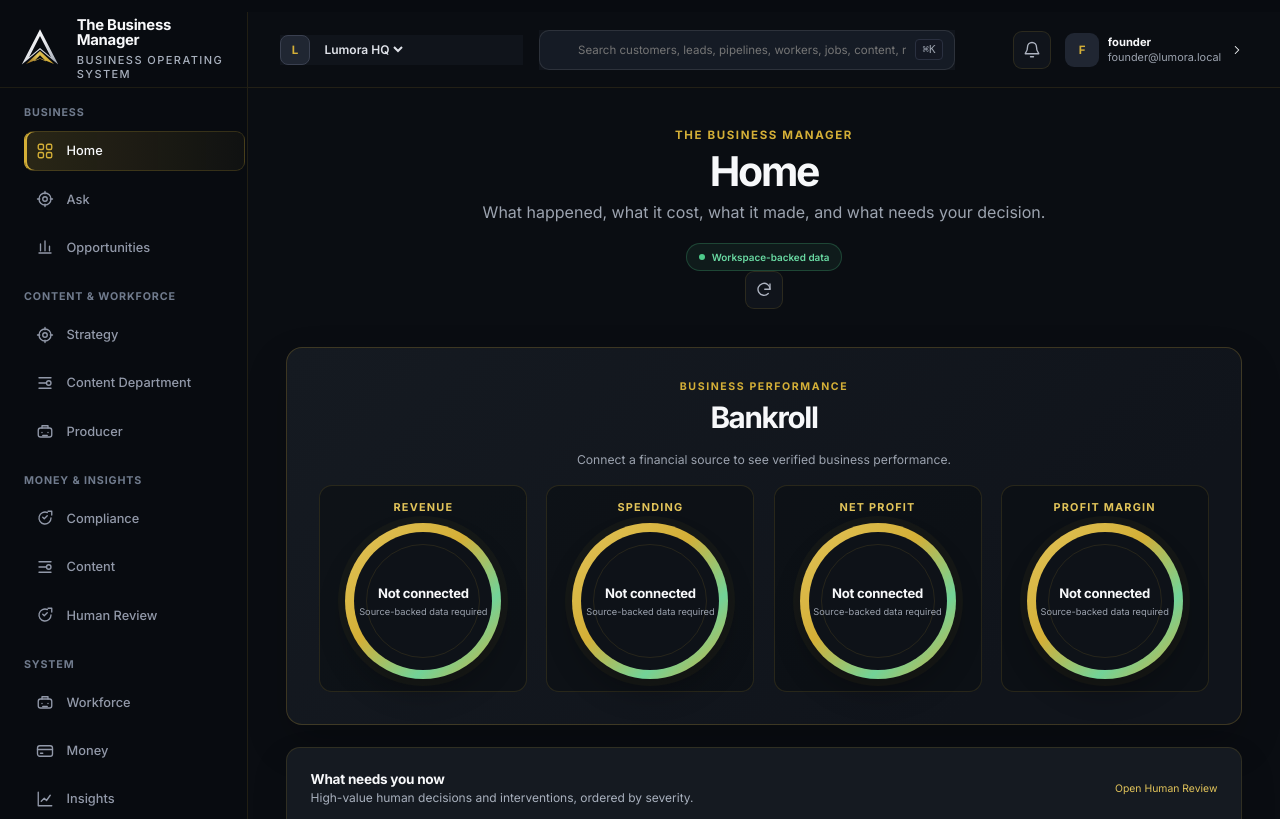
Test: dashboard navigation smoke test › keeps the newest global-search response when an older request resolves late
expect the heading "Home" is shown: met, box [710,146,818,196]
Replace the text in the field named "global search" with "ab" at (747,50), box [539,30,955,70]
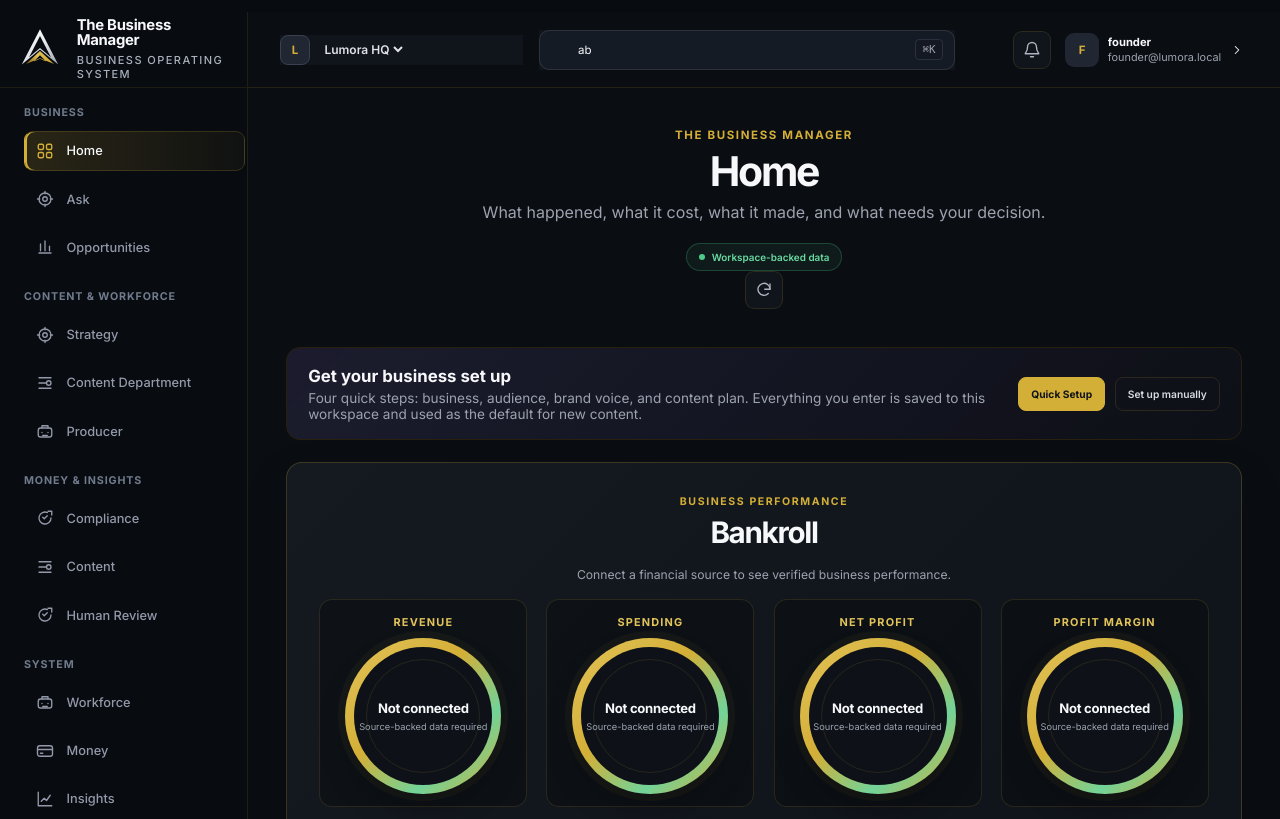
Replace the text in the field named "global search" with "abc" at (747,50), box [539,30,955,70]
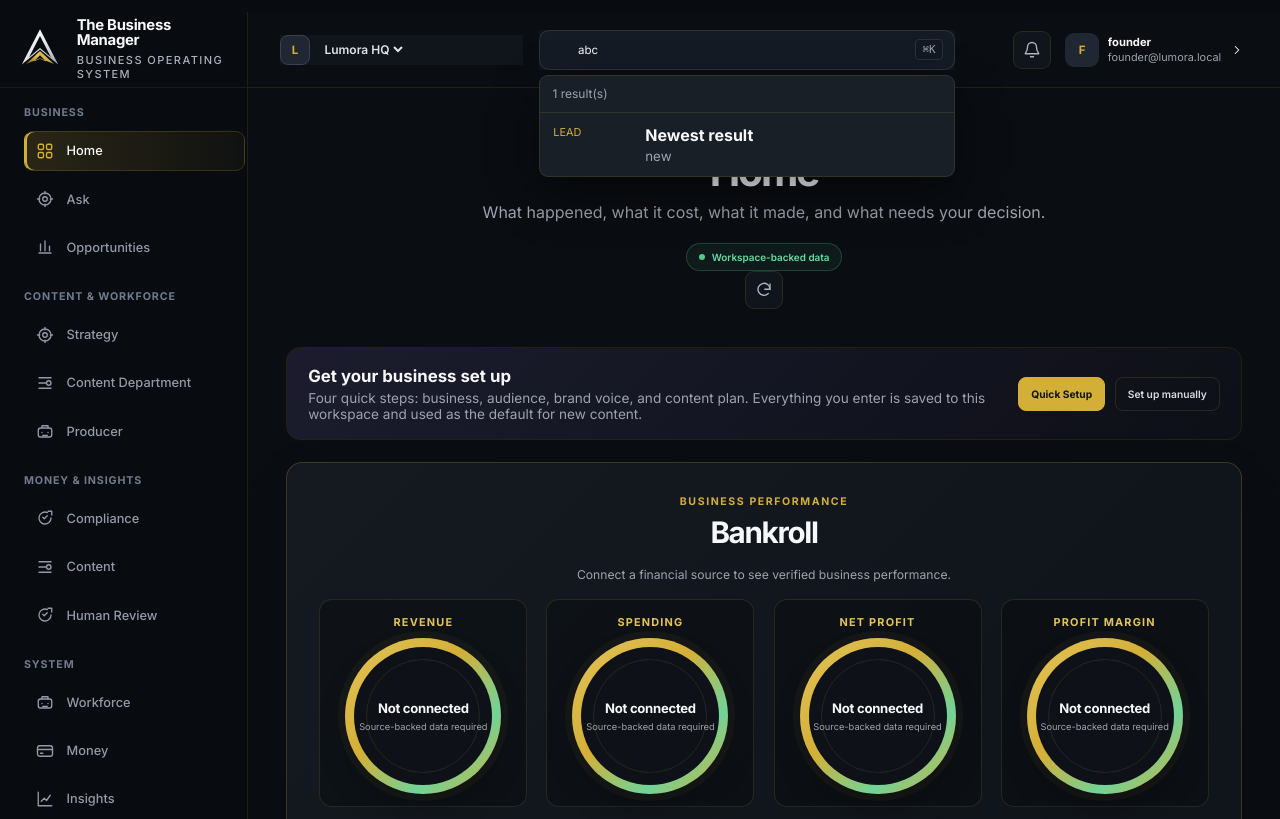
expect the text "Newest result" is shown: met, box [645,125,753,145]
